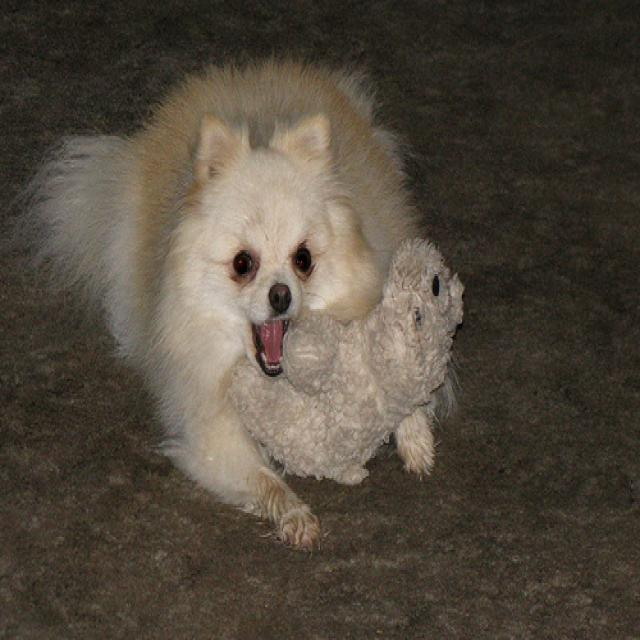dog-pomeranian: (20, 50, 431, 566)
